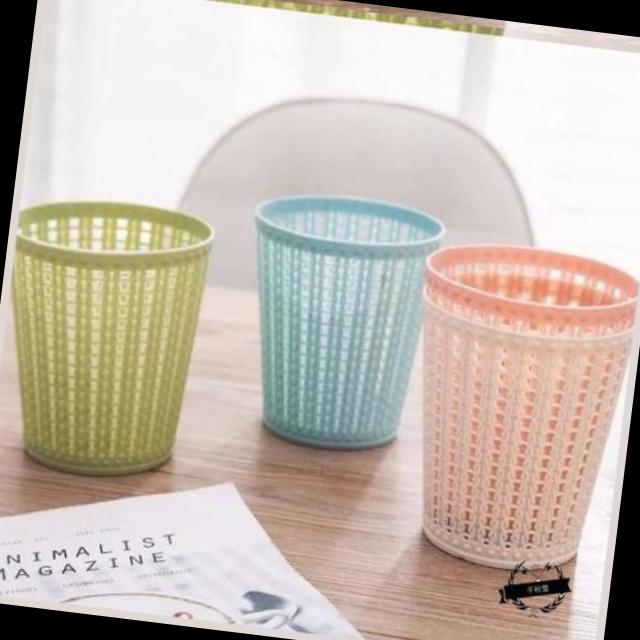dustbin: (388, 234, 640, 582), (0, 187, 223, 493), (225, 180, 449, 467)
